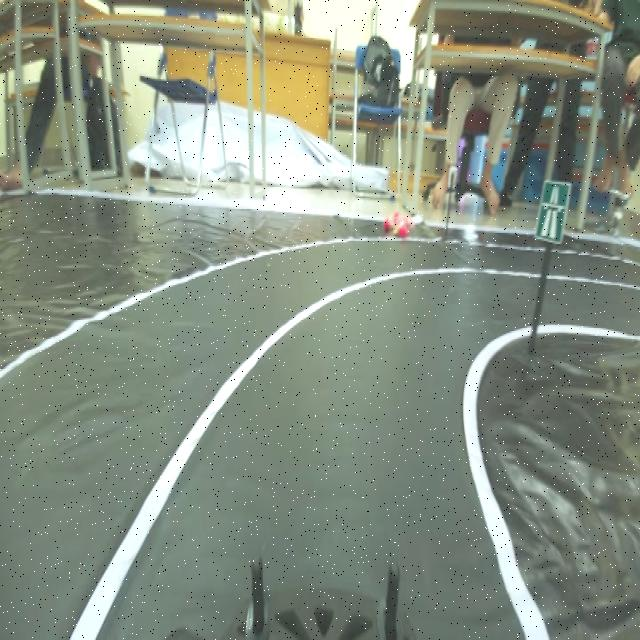highway_entry: (534, 165, 572, 248)
